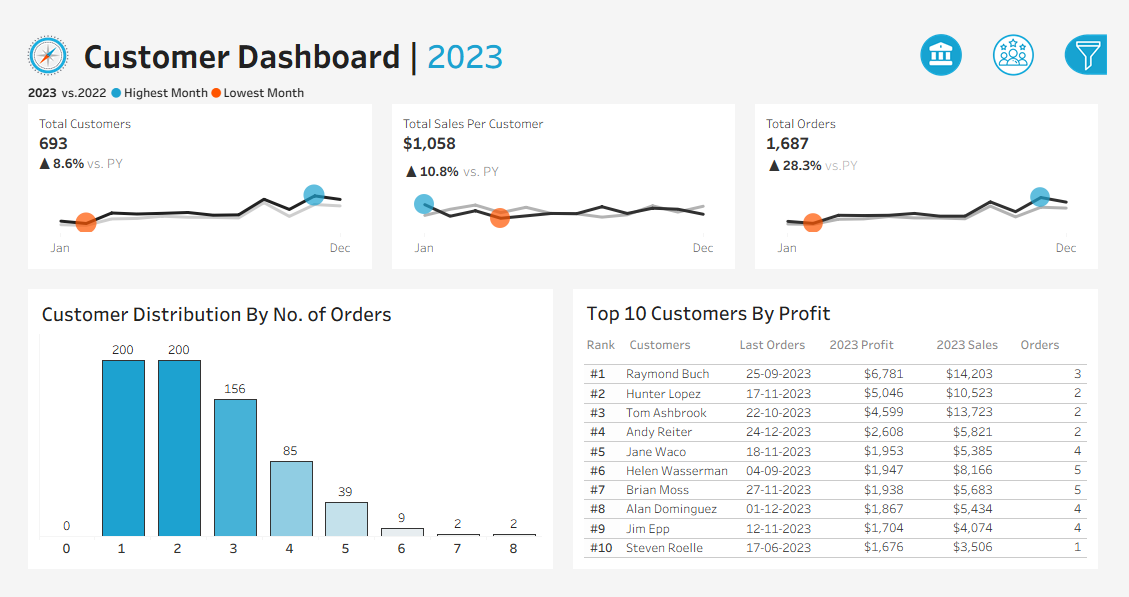

The dashboard page shown, as its layout file describes it:
{"tool":"tableau","page":{"name":"Customer  Dashboard ","canvas":[1090,550],"ordinal":0},"visuals":[{"type":"image","param":"Image/Icon - Logo.png","box":[0,0,59,52]},{"type":"text","box":[59,0,1031,52]},{"type":"dashboard-object","box":[886,0,73,51]},{"type":"dashboard-object","box":[959,0,72,51]},{"type":"blank","box":[910,11,166,51]},{"type":"worksheet","title":"Legend KPI","mark":"Automatic","box":[0,52,1090,23]},{"type":"text","box":[910,62,166,32]},{"type":"worksheet","title":"Customer KPI","mark":"Automatic","rows":["Calculation_1148756719124486"],"cols":["Order Date"],"box":[0,75,364,175]},{"type":"worksheet","title":"CY Sales per Customer KPI","mark":"Automatic","rows":["Calculation_1148756719468551"],"cols":["Order Date"],"box":[364,75,363,175]},{"type":"worksheet","title":"Orders KPI","mark":"Line","rows":["Calculation_934496964853223427"],"cols":["Order Date"],"box":[727,75,363,175]},{"type":"parameter","param":"[Parameters].[Parameter 1]","box":[910,94,166,58]},{"type":"text","box":[910,152,166,33]},{"type":"filter","title":"CY Sales per Customer KPI","param":"[federated.0pg33ht13qnrs71adlfee1mj8owb].[none:Category:nk]","box":[910,185,166,52]},{"type":"filter","title":"CY Sales per Customer KPI","param":"[federated.0pg33ht13qnrs71adlfee1mj8owb].[none:Sub-Category:nk]","box":[910,237,166,52]},{"type":"text","box":[17,267,511,34]},{"type":"text","box":[562,267,511,32]},{"type":"blank","box":[910,289,166,32]},{"type":"text","box":[562,299,43,32]},{"type":"text","box":[605,299,110,32]},{"type":"text","box":[715,299,90,32]},{"type":"text","box":[805,299,107,32]},{"type":"text","box":[912,299,84.5,32]},{"type":"text","box":[996.5,299,76.5,32]},{"type":"worksheet","title":"Customer Distribution","mark":"Bar","rows":["Calculation_1148756717019136"],"cols":["Calculation_727894331984293888"],"box":[17,301,511,232]},{"type":"text","box":[910,321,166,32]},{"type":"worksheet","title":"Top Customers","mark":"Automatic","rows":["Calculation_727894331989172228","Customer Name","Order Date"],"box":[562,331,511,202]},{"type":"filter","title":"CY Sales per Customer KPI","param":"[federated.0pg33ht13qnrs71adlfee1mj8owb].[none:Region:nk]","box":[910,353,166,52]},{"type":"filter","title":"CY Sales per Customer KPI","param":"[federated.0pg33ht13qnrs71adlfee1mj8owb].[none:State:nk]","box":[910,405,166,52]},{"type":"filter","title":"CY Sales per Customer KPI","param":"[federated.0pg33ht13qnrs71adlfee1mj8owb].[none:City:nk]","box":[910,457,166,52]}]}

Visuals, with their boxes on the page's 1090x550 design canvas (x1, y1, x2, y2). These are canvas units, not pixel positions in the 1129x597 screenshot, which may show the page scaled, cropped or inside an application window:
image: {"x1": 0, "y1": 0, "x2": 59, "y2": 52}
text: {"x1": 59, "y1": 0, "x2": 1090, "y2": 52}
dashboard-object: {"x1": 886, "y1": 0, "x2": 959, "y2": 51}
dashboard-object: {"x1": 959, "y1": 0, "x2": 1031, "y2": 51}
blank: {"x1": 910, "y1": 11, "x2": 1076, "y2": 62}
"Legend KPI" worksheet: {"x1": 0, "y1": 52, "x2": 1090, "y2": 75}
text: {"x1": 910, "y1": 62, "x2": 1076, "y2": 94}
"Customer KPI" worksheet: {"x1": 0, "y1": 75, "x2": 364, "y2": 250}
"CY Sales per Customer KPI" worksheet: {"x1": 364, "y1": 75, "x2": 727, "y2": 250}
"Orders KPI" worksheet (Line marks): {"x1": 727, "y1": 75, "x2": 1090, "y2": 250}
parameter: {"x1": 910, "y1": 94, "x2": 1076, "y2": 152}
text: {"x1": 910, "y1": 152, "x2": 1076, "y2": 185}
"CY Sales per Customer KPI" filter: {"x1": 910, "y1": 185, "x2": 1076, "y2": 237}
"CY Sales per Customer KPI" filter: {"x1": 910, "y1": 237, "x2": 1076, "y2": 289}
text: {"x1": 17, "y1": 267, "x2": 528, "y2": 301}
text: {"x1": 562, "y1": 267, "x2": 1073, "y2": 299}
blank: {"x1": 910, "y1": 289, "x2": 1076, "y2": 321}
text: {"x1": 562, "y1": 299, "x2": 605, "y2": 331}
text: {"x1": 605, "y1": 299, "x2": 715, "y2": 331}
text: {"x1": 715, "y1": 299, "x2": 805, "y2": 331}
text: {"x1": 805, "y1": 299, "x2": 912, "y2": 331}
text: {"x1": 912, "y1": 299, "x2": 996, "y2": 331}
text: {"x1": 996, "y1": 299, "x2": 1073, "y2": 331}
"Customer Distribution" worksheet (Bar marks): {"x1": 17, "y1": 301, "x2": 528, "y2": 533}
text: {"x1": 910, "y1": 321, "x2": 1076, "y2": 353}
"Top Customers" worksheet: {"x1": 562, "y1": 331, "x2": 1073, "y2": 533}
"CY Sales per Customer KPI" filter: {"x1": 910, "y1": 353, "x2": 1076, "y2": 405}
"CY Sales per Customer KPI" filter: {"x1": 910, "y1": 405, "x2": 1076, "y2": 457}
"CY Sales per Customer KPI" filter: {"x1": 910, "y1": 457, "x2": 1076, "y2": 509}
